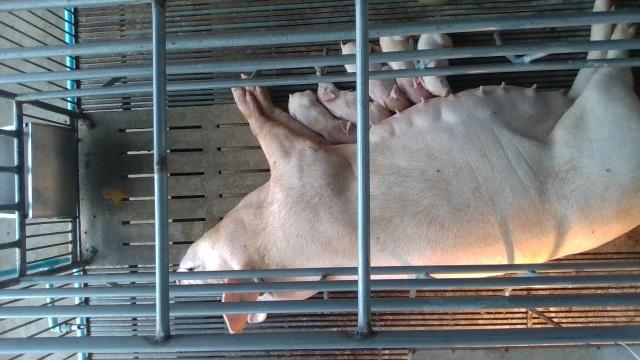piglet: (338, 42, 411, 113), (286, 89, 356, 145), (378, 36, 432, 105), (316, 82, 391, 125), (415, 33, 453, 98)
sow-sleep-lactate: (175, 0, 640, 335)
